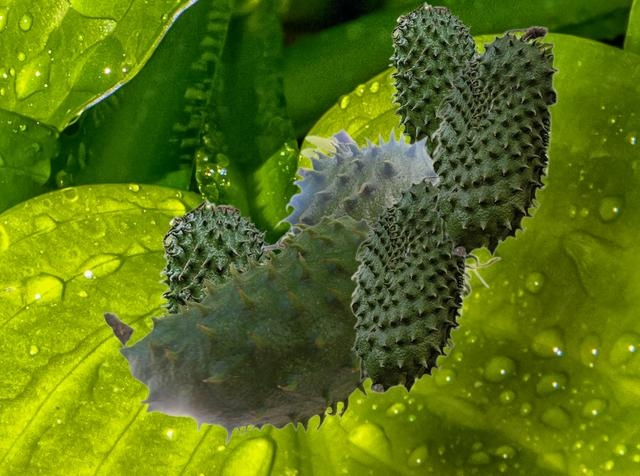guyabano: (102, 215, 372, 444), (260, 125, 501, 298), (430, 25, 558, 256), (349, 175, 466, 393), (388, 1, 480, 155), (158, 198, 274, 313)
